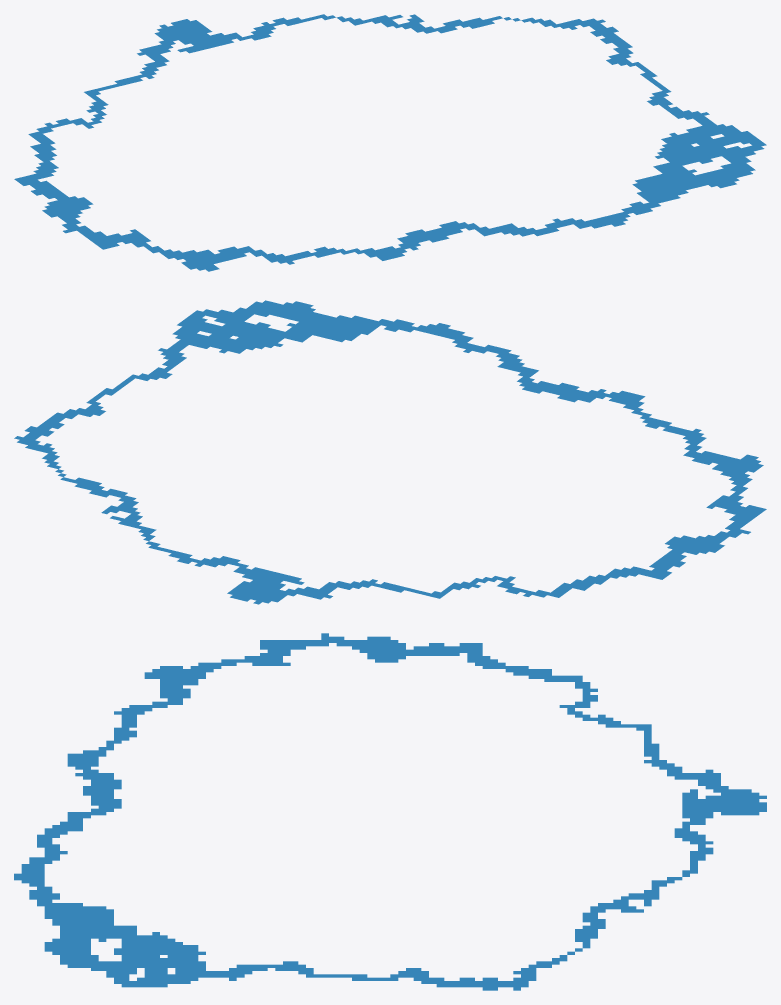
The model's file is Isl-start4-PlaceForWaterObjects.fbx.
3 views of the same model, one above another, from view 1: azimuth 30°, elevation 25°; view 2: azimuth 150°, elevation 25°; view 3: azimuth 270°, elevation 25° (orthographic). The views are drawn at different scales.
Visible parts, largest first — view 1: Isl-start4-PlaceForWaterObjects; view 2: Isl-start4-PlaceForWaterObjects; view 3: Isl-start4-PlaceForWaterObjects.
Part boxes in pixels (x1=…): Isl-start4-PlaceForWaterObjects: x1=14, y1=14, x2=766, y2=271; Isl-start4-PlaceForWaterObjects: x1=14, y1=300, x2=766, y2=604; Isl-start4-PlaceForWaterObjects: x1=14, y1=633, x2=766, y2=990.
Bounding box in the file's own units: 110 × 0 × 98.
